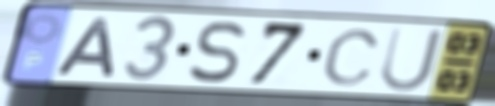3: (121, 12, 179, 87)
7: (244, 20, 312, 87)
A: (49, 15, 119, 79)
C: (319, 27, 384, 88)
S: (185, 19, 250, 85)
U: (376, 24, 447, 95)
